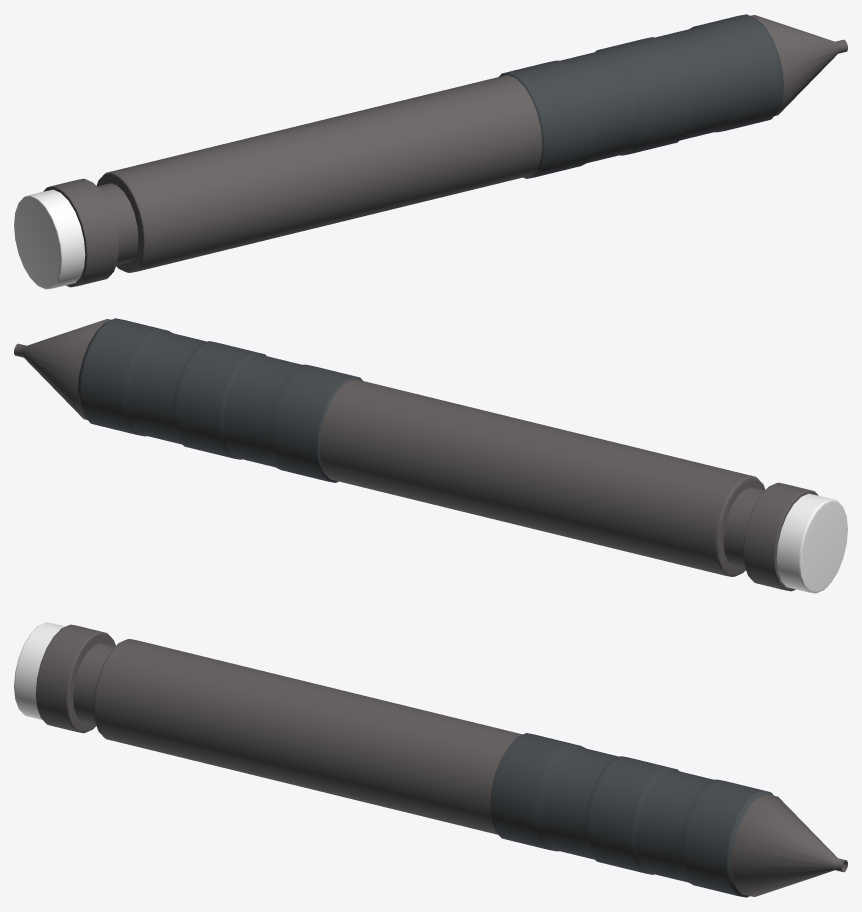
3 views of the same model, one above another, from view 1: azimuth 30°, elevation 25°; view 2: azimuth 150°, elevation 25°; view 3: azimuth 330°, elevation 25° (orthographic).
Parts seen in each view (by area): view 1: Pen; view 2: Pen; view 3: Pen.
Boxes of the visible parts, bbox=[...] form: Pen: bbox=[14, 14, 847, 289]; Pen: bbox=[14, 318, 847, 593]; Pen: bbox=[14, 622, 847, 897].
Size of the model in its own units: 0.1787 by 0.021 by 0.021.
Materials: 1 (1 with a texture image).
